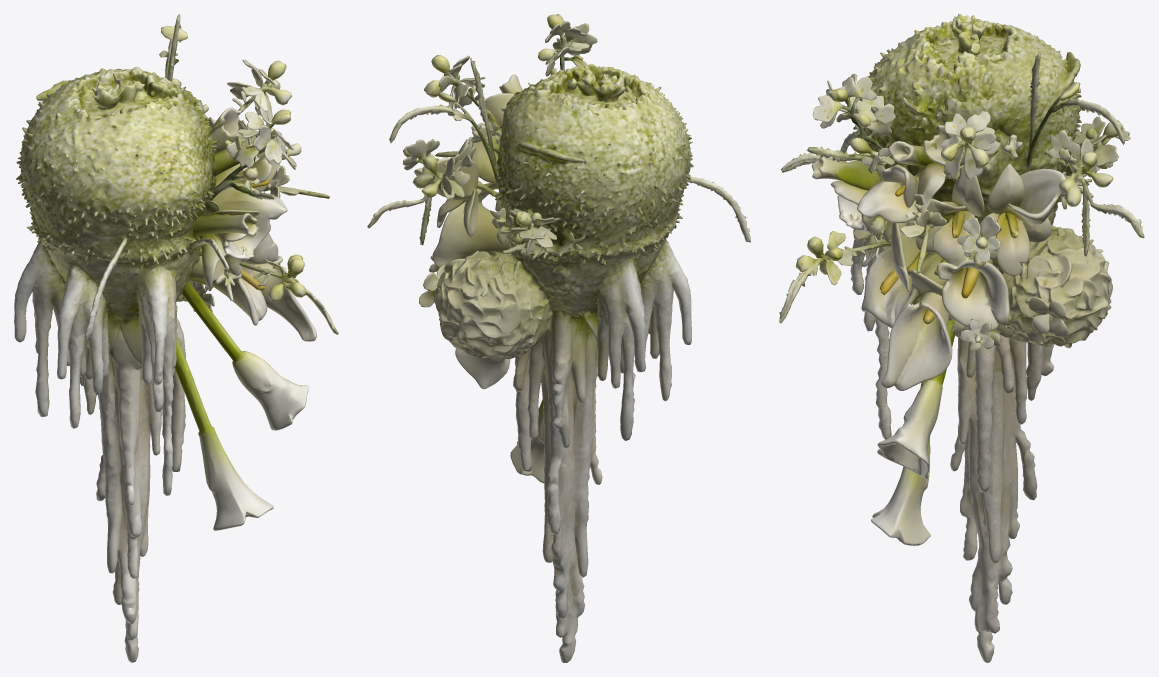
Rendered from cascade.glb.
3 views of the same model, side by side, from view 1: azimuth 30°, elevation 25°; view 2: azimuth 150°, elevation 25°; view 3: azimuth 270°, elevation 25° (orthographic). The views are drawn at different scales.
Visible parts, largest first — view 1: tripo_node_1b45b3c6-c2b7-4a8c-801a-e7d541cb087d; view 2: tripo_node_1b45b3c6-c2b7-4a8c-801a-e7d541cb087d; view 3: tripo_node_1b45b3c6-c2b7-4a8c-801a-e7d541cb087d.
Boxes of the visible parts, x1=… form: tripo_node_1b45b3c6-c2b7-4a8c-801a-e7d541cb087d: x1=14, y1=14, x2=338, y2=662; tripo_node_1b45b3c6-c2b7-4a8c-801a-e7d541cb087d: x1=367, y1=14, x2=750, y2=662; tripo_node_1b45b3c6-c2b7-4a8c-801a-e7d541cb087d: x1=779, y1=14, x2=1144, y2=662.
Size of the model in its own units: 0.4852 by 1 by 0.5127.
1 material, 1 textured.
